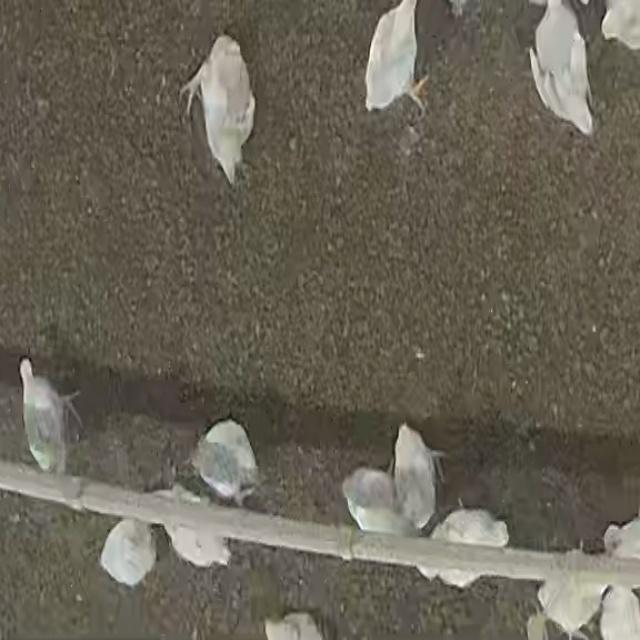chicken: (528, 0, 594, 134), (184, 36, 246, 177), (18, 358, 86, 476), (369, 0, 436, 118), (424, 507, 512, 588), (150, 487, 232, 572), (392, 424, 452, 532), (536, 558, 610, 640), (192, 419, 259, 507), (340, 466, 414, 536), (98, 518, 156, 590)
